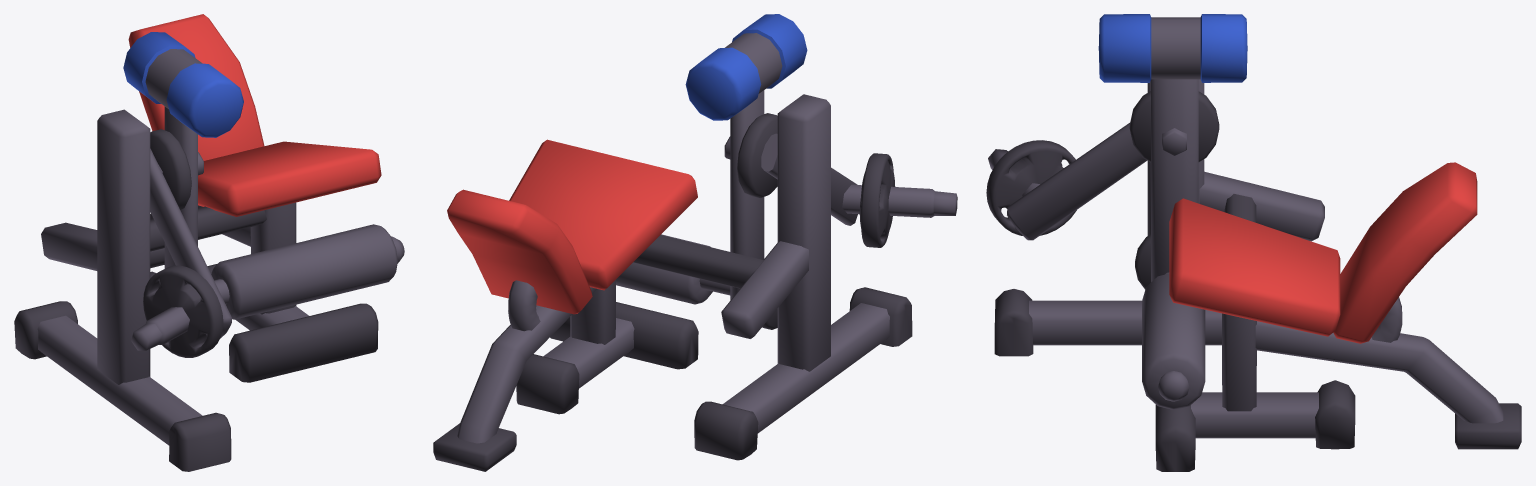
The model's file is Leg_Curl_Machine_v01.fbx.
The picture shows the model from 3 angles, left to right: view 1: azimuth 30°, elevation 25°; view 2: azimuth 150°, elevation 25°; view 3: azimuth 270°, elevation 25°; orthographic projection. The views are drawn at different scales.
Visible parts, largest first — view 1: Leg_Curl_Machine_v01; view 2: Leg_Curl_Machine_v01; view 3: Leg_Curl_Machine_v01.
Boxes of the visible parts, <box> form: Leg_Curl_Machine_v01: <box>14,14,404,471</box>; Leg_Curl_Machine_v01: <box>433,14,957,471</box>; Leg_Curl_Machine_v01: <box>986,14,1521,471</box>.
Bounding box in the file's own units: 1.25 × 1.16 × 1.57.
Materials: 1 (1 with a texture image).
